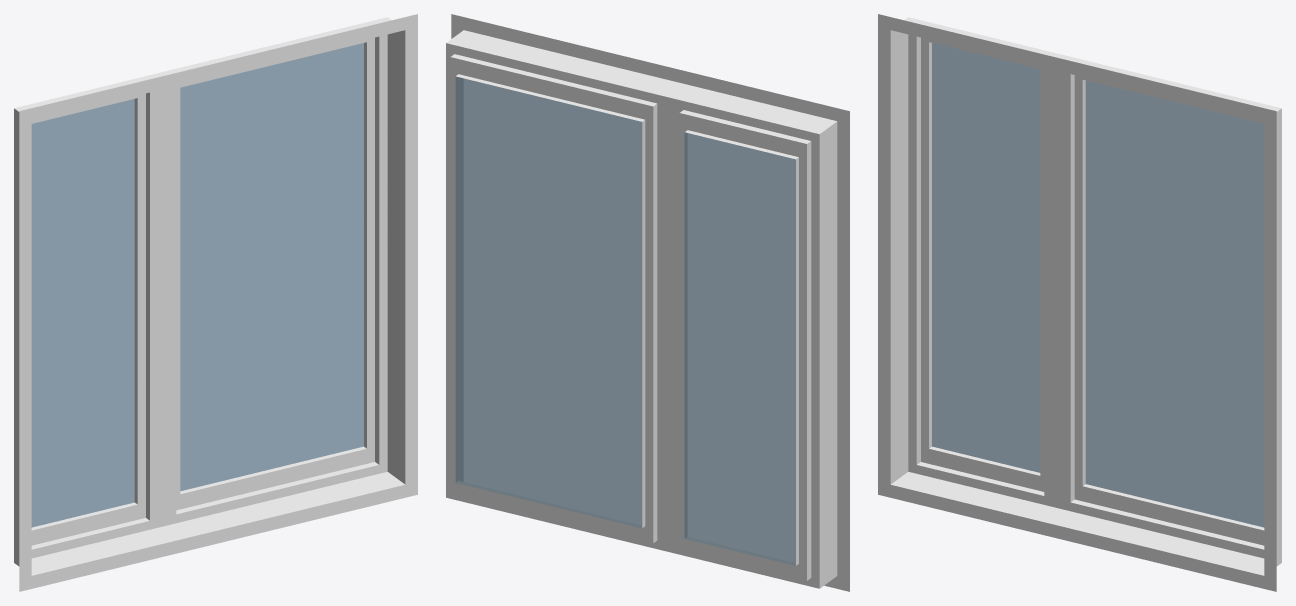
The model's file is p-44-window-2-pane.fbx.
The picture shows the model from 3 angles, left to right: view 1: azimuth 30°, elevation 25°; view 2: azimuth 150°, elevation 25°; view 3: azimuth 330°, elevation 25°; orthographic projection.
Parts seen in each view (by area): view 1: window-2-pane; view 2: window-2-pane; view 3: window-2-pane.
Boxes of the visible parts, x1,y1,x2,y2 form: window-2-pane: [14, 14, 417, 591]; window-2-pane: [446, 14, 849, 591]; window-2-pane: [878, 14, 1281, 591].
Bounding box in the file's own units: 142 × 163 × 15.32.
